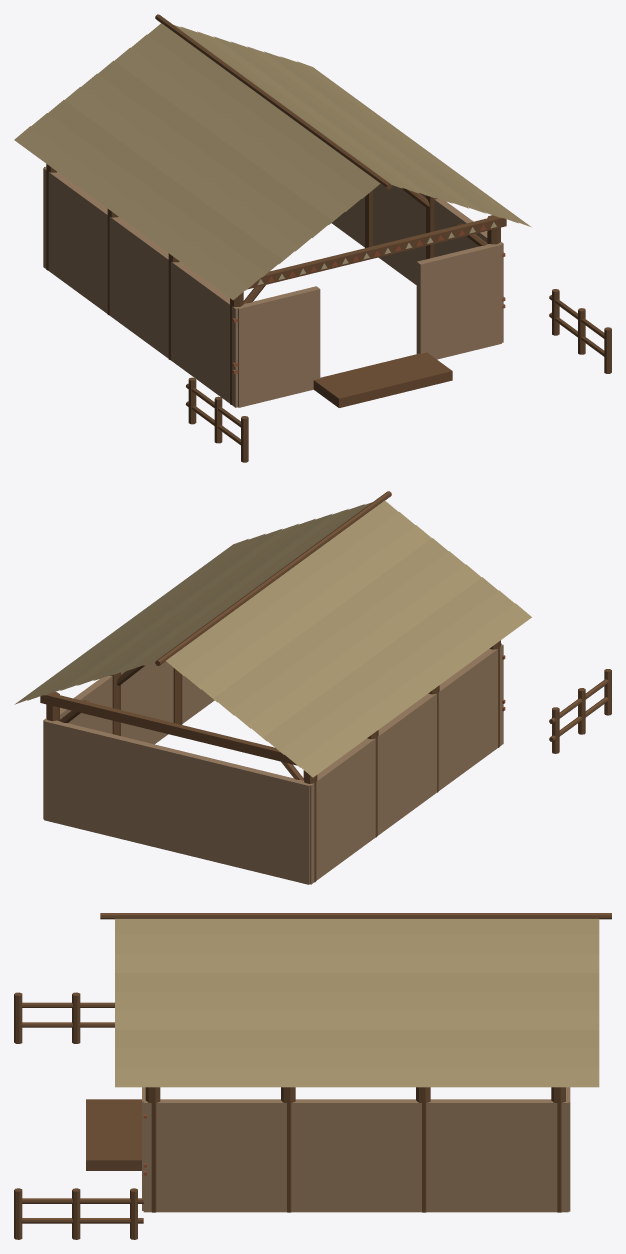
Rendered from enclosed_authority_hall.glb.
The picture shows the model from 3 angles, top to bottom: view 1: azimuth 30°, elevation 25°; view 2: azimuth 150°, elevation 25°; view 3: azimuth 270°, elevation 25°; orthographic projection. The views are drawn at different scales.
Visible parts, largest first — view 1: enclosed_authority_hall; view 2: enclosed_authority_hall; view 3: enclosed_authority_hall.
Part boxes in pixels (bbox=[...]): enclosed_authority_hall: bbox=[14, 14, 611, 462]; enclosed_authority_hall: bbox=[14, 491, 611, 884]; enclosed_authority_hall: bbox=[14, 913, 611, 1239].
Size of the model in its own units: 9.78 by 5.2 by 12.39.
